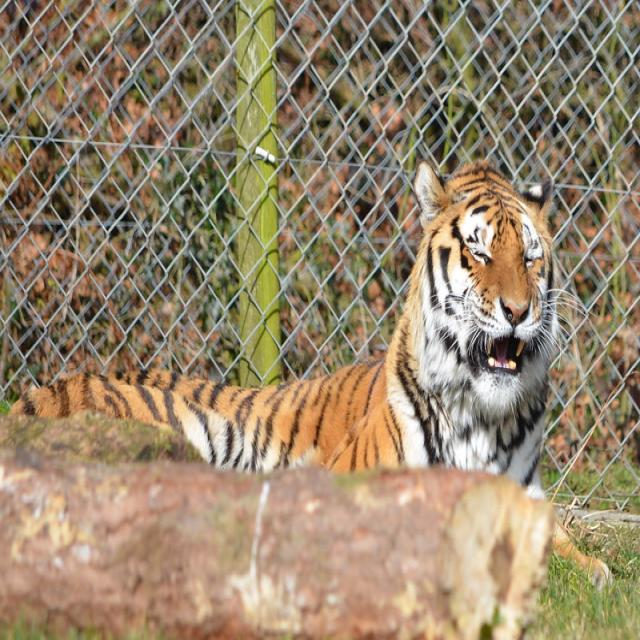Tiger: (14, 154, 617, 589)
